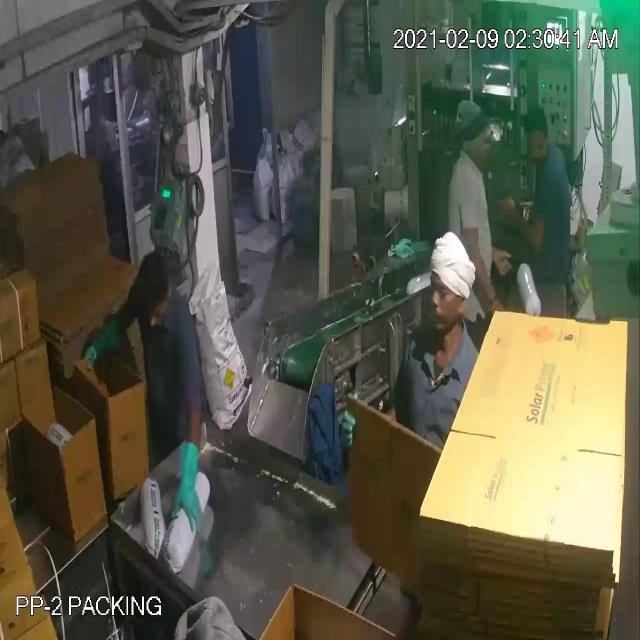Guantes: (167, 427, 211, 548), (71, 306, 122, 366)
Sin_guantes: (454, 213, 509, 318), (497, 185, 549, 257)
